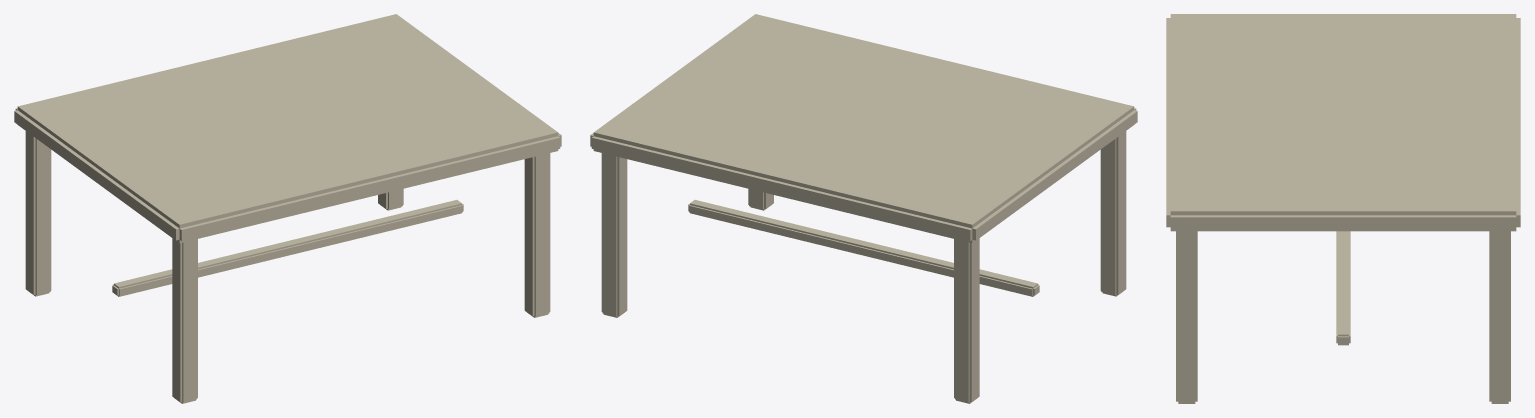
File: bone_table_v0.glb
3 renders of one model, left to right at view 1: azimuth 30°, elevation 25°; view 2: azimuth 150°, elevation 25°; view 3: azimuth 270°, elevation 25°, orthographic. The views are drawn at different scales.
Visible parts, largest first — view 1: bone_table_v0; view 2: bone_table_v0; view 3: bone_table_v0.
Part boxes in pixels (bbox=[...]): bone_table_v0: bbox=[14, 14, 561, 403]; bone_table_v0: bbox=[590, 14, 1137, 403]; bone_table_v0: bbox=[1166, 14, 1520, 403].
Bounding box in the file's own units: 1.96 × 0.89 × 1.46.
